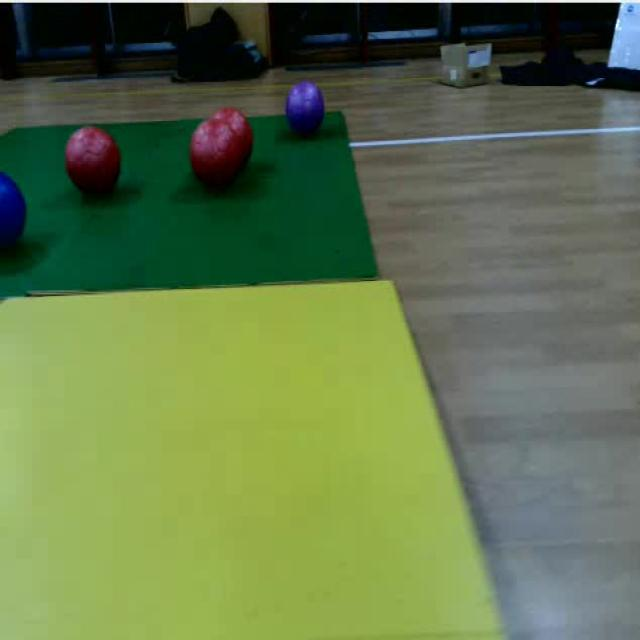blue_ball: (0, 170, 28, 252)
purple_ball: (286, 80, 325, 136)
red_ball: (66, 128, 121, 196), (191, 117, 240, 187), (210, 107, 252, 167)
